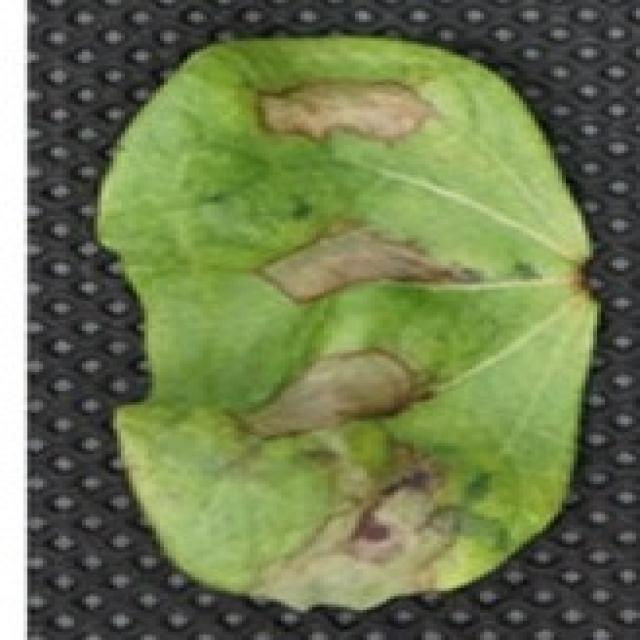Fusarium Wilt: (226, 55, 482, 564)
